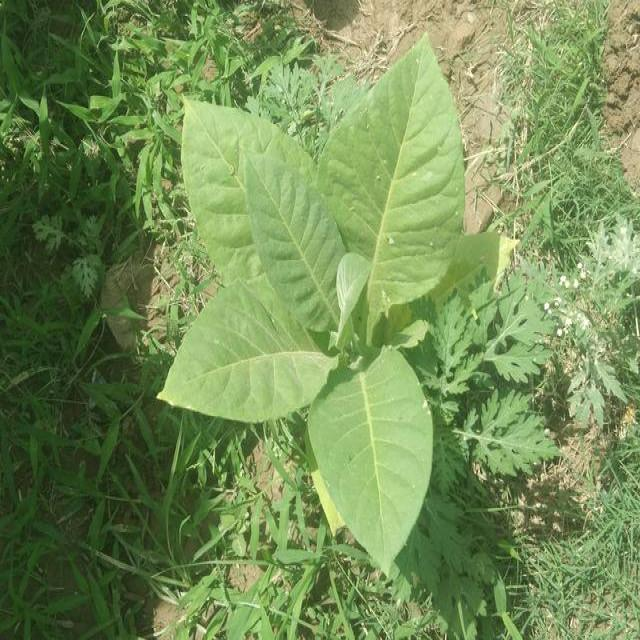crop: (150, 28, 476, 576)
